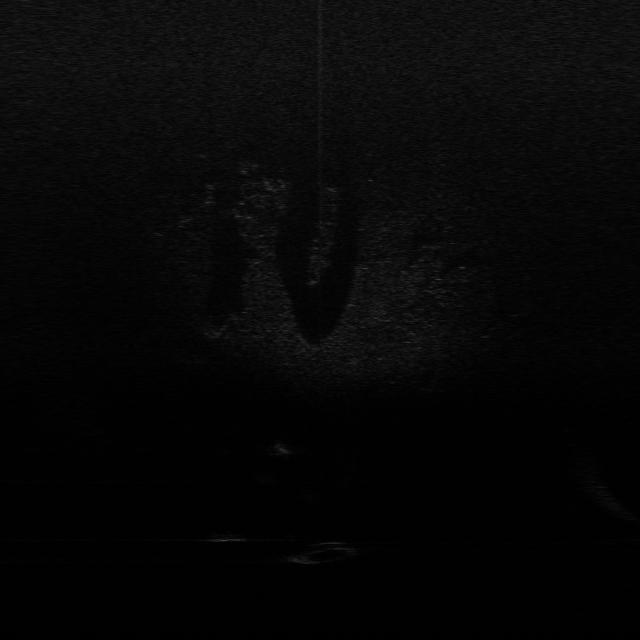cube: (208, 526, 254, 548)
square cage: (272, 433, 300, 459)
tyre: (287, 536, 362, 570)
